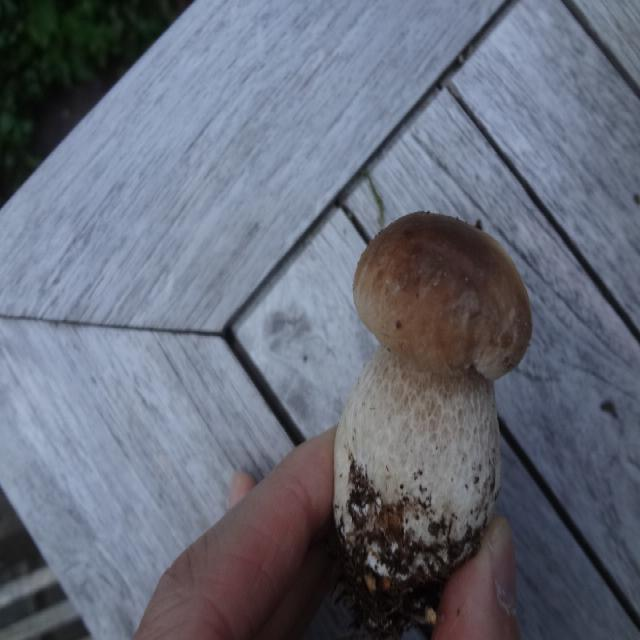Boletus: (335, 218, 532, 594)
